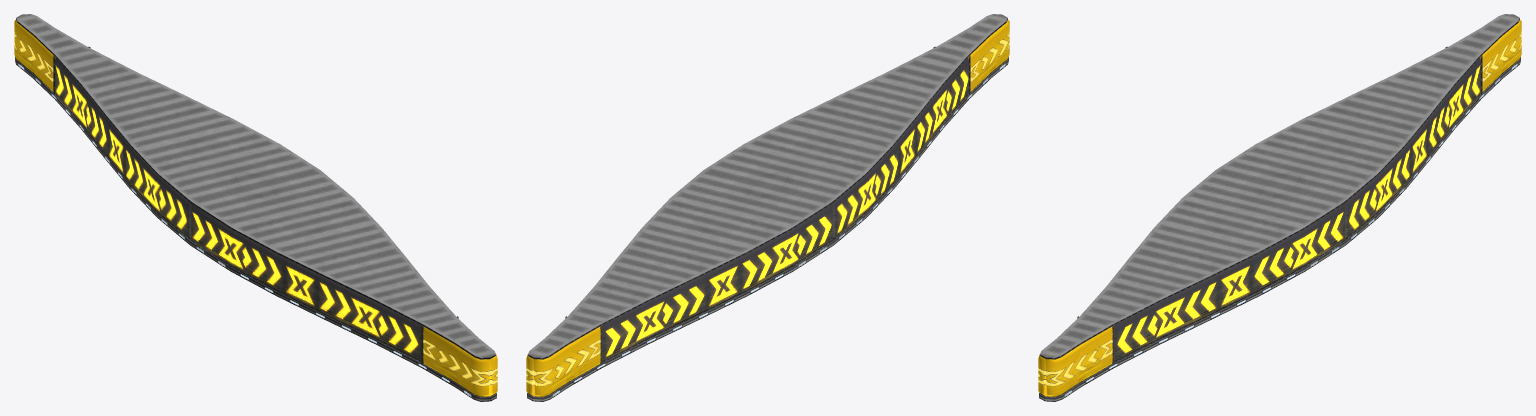
The model's file is obs_barrier_split.fbx.
3 renders of one model, left to right at view 1: azimuth 30°, elevation 25°; view 2: azimuth 150°, elevation 25°; view 3: azimuth 330°, elevation 25°, orthographic.
Visible parts, largest first — view 1: barrier; view 2: barrier; view 3: barrier.
Boxes of the visible parts, x1=… form: barrier: x1=14, y1=14, x2=497, y2=401; barrier: x1=526, y1=14, x2=1009, y2=401; barrier: x1=1038, y1=14, x2=1521, y2=401.
Bounding box in the file's own units: 813 × 254 × 4975.
